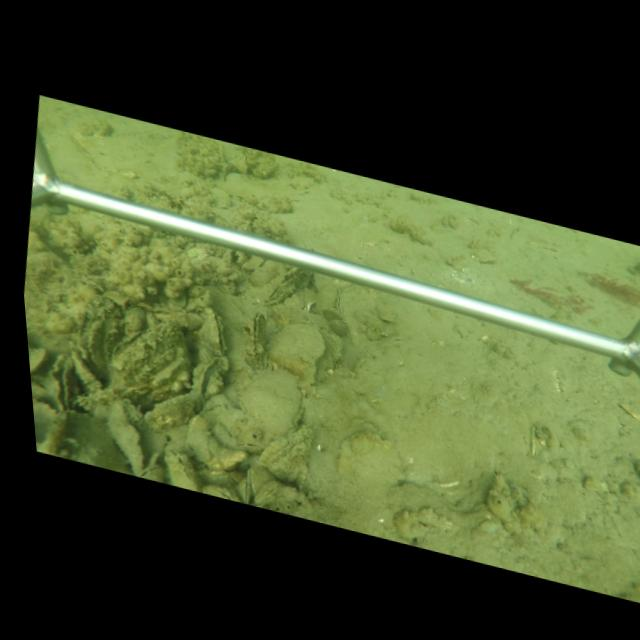Oyster-Closed: (105, 317, 191, 407), (235, 368, 304, 440), (185, 404, 249, 467), (335, 283, 397, 346), (259, 267, 314, 307), (241, 312, 268, 371), (165, 446, 199, 492), (199, 304, 227, 357), (251, 481, 282, 508), (230, 440, 262, 454)
Oyster-Indeterminate: (270, 323, 328, 386), (257, 425, 316, 485)
Oyster-Open: (192, 355, 231, 402), (48, 354, 74, 412)
